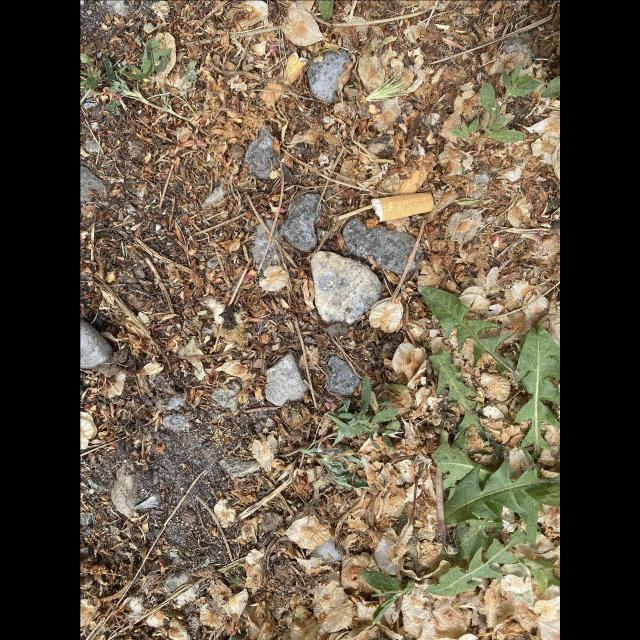cigarette: (370, 192, 434, 222)
